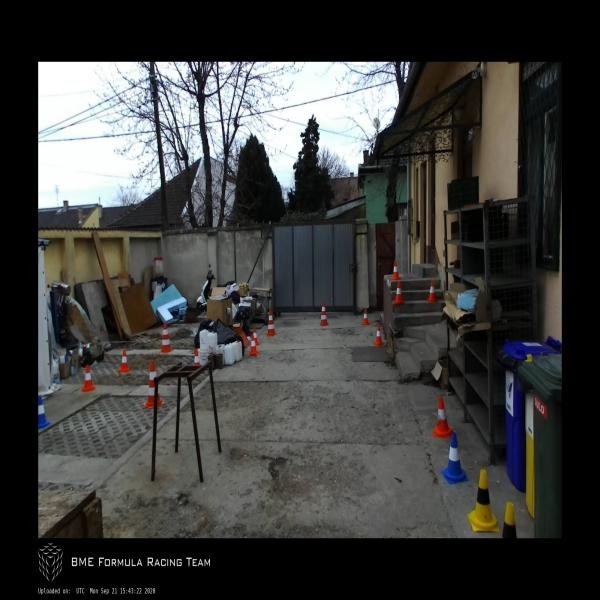blue_cone: (441, 432, 469, 486), (38, 395, 50, 431)
large_orange_cone: (142, 360, 166, 409), (158, 322, 174, 354), (265, 309, 277, 337), (319, 300, 329, 326)
orange_cone: (432, 397, 453, 439), (81, 364, 96, 392), (118, 349, 131, 373), (426, 280, 438, 302), (393, 282, 404, 305), (374, 325, 384, 346), (392, 260, 402, 281), (249, 334, 258, 356), (362, 308, 370, 326), (194, 348, 200, 368), (253, 327, 259, 346)
yellow_cone: (469, 469, 499, 533), (500, 502, 517, 538)
